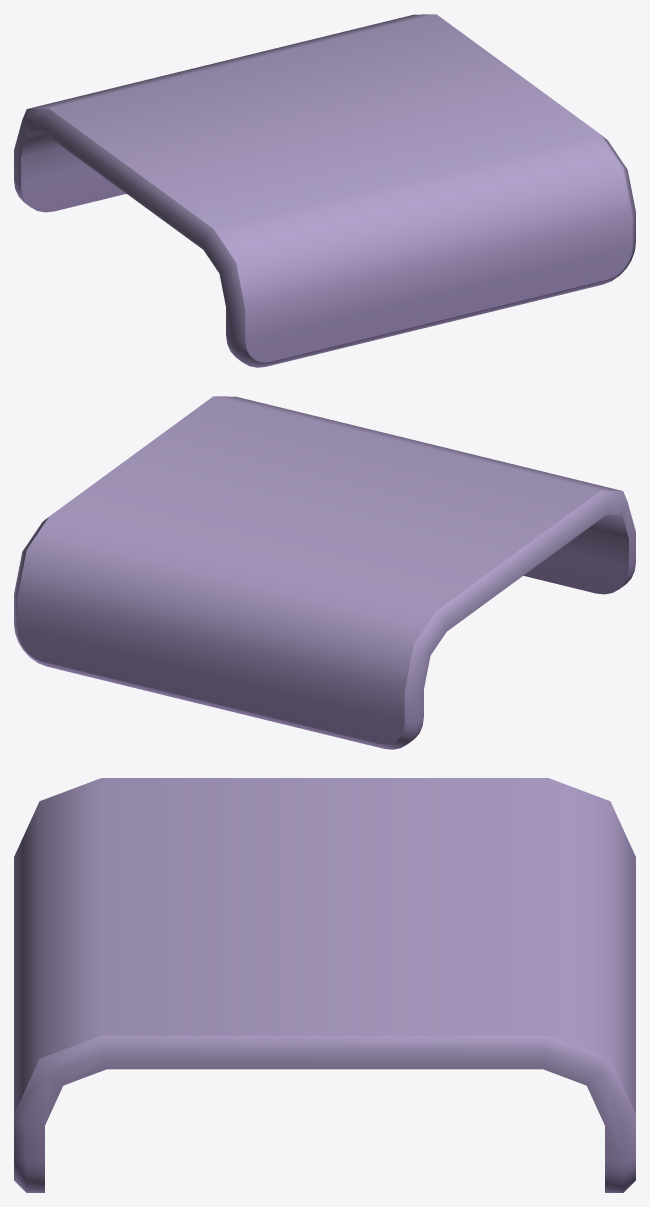
The model's file is cover-color-single.glb.
The picture shows the model from 3 angles, top to bottom: view 1: azimuth 30°, elevation 25°; view 2: azimuth 150°, elevation 25°; view 3: azimuth 270°, elevation 25°; orthographic projection. The views are drawn at different scales.
Visible parts, largest first — view 1: cover-color-single; view 2: cover-color-single; view 3: cover-color-single.
Boxes of the visible parts, box(x1,y1,x2,y2) form: cover-color-single: box(14, 14, 635, 367); cover-color-single: box(14, 396, 635, 749); cover-color-single: box(14, 778, 635, 1192).
Bounding box in the file's own units: 1.02 × 0.3 × 1.
